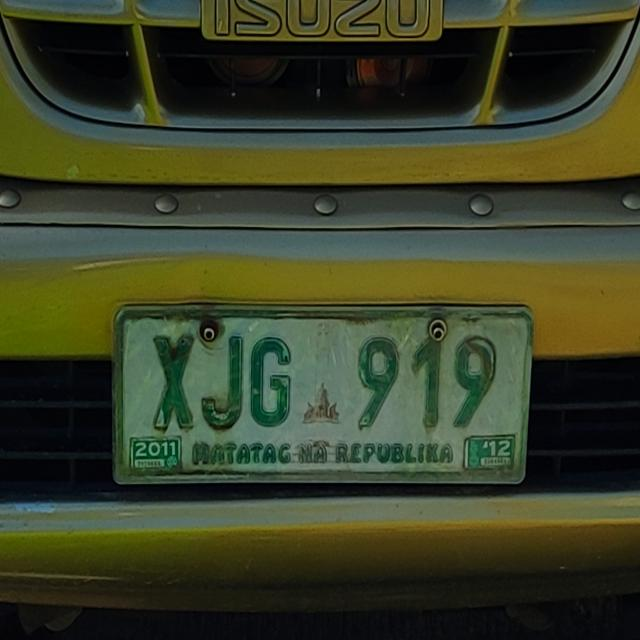plate: (104, 291, 538, 497)
